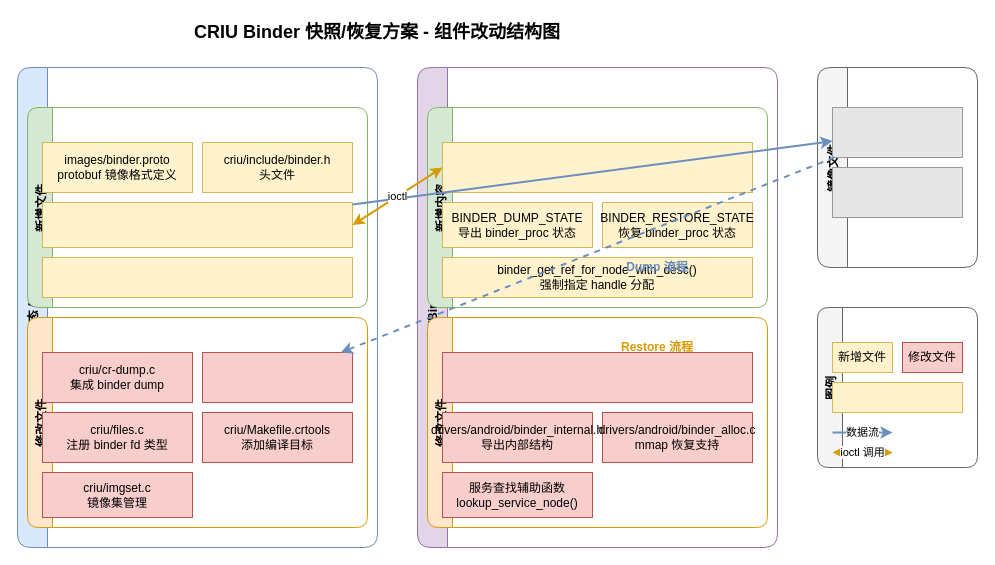
Image size: 995x565. Some labels were removed from this diagram. The centre of each missing label's shape, as x and y in pixels:
"binder-{pid}.img Binder 状态镜像" goes at [897,132].
"criu/binder.c 核心 dump/restore 逻辑" goes at [197,225].
"criu/cr-restore.c 集成 binder restore" goes at [277,377].
"drivers/android/binder.c 主要修改：实现 dump/restore ioctl" goes at [597,377].
"include/uapi/linux/android/binder.h 新增 ioctl 定义和数据结构" goes at [597,167].
"test/zdtm/static/binder_test.c 测试用例" goes at [197,277].
"其他 CRIU 镜像 (内存、fd 等)" goes at [897,192].
"核心文件" goes at [897,397].
